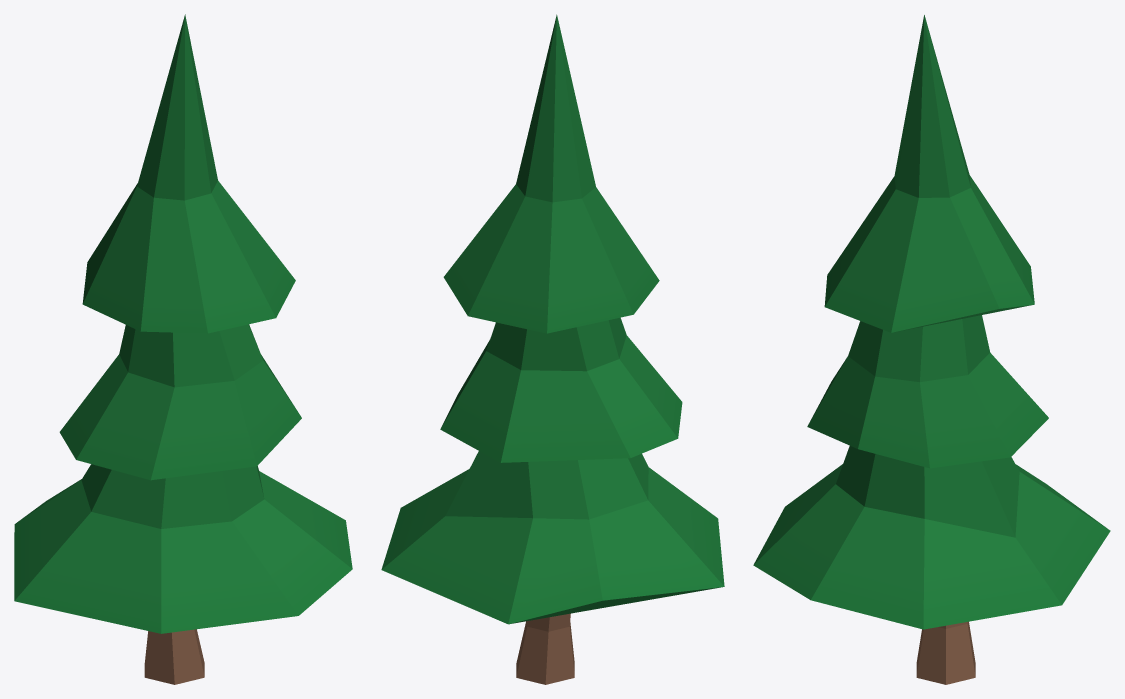
Rendered from tree_1.FBX.
3 renders of one model, left to right at view 1: azimuth 30°, elevation 25°; view 2: azimuth 150°, elevation 25°; view 3: azimuth 270°, elevation 25°, orthographic. The views are drawn at different scales.
Parts seen in each view (by area): view 1: tree_1; view 2: tree_1; view 3: tree_1.
Boxes of the visible parts, x1,y1,x2,y2 form: tree_1: (14,14,352,684); tree_1: (381,14,724,684); tree_1: (753,15,1110,684).
Bounding box in the file's own units: 106 × 204 × 101.
